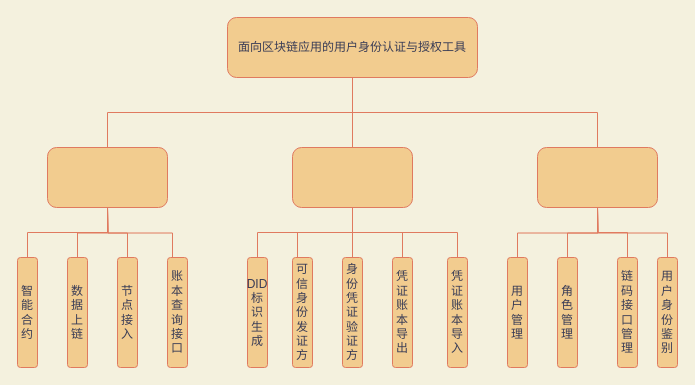
Some shapes in this 695 by 385 pixel diagram are drawn without their labels. Here are the shapes that lost their labels. From the top down, the centre of each, then its label:
At point 107,177: "区块链系统".
At point 352,177: "分布式可信身份管理系统".
At point 597,177: "链码级权限管理系统".
